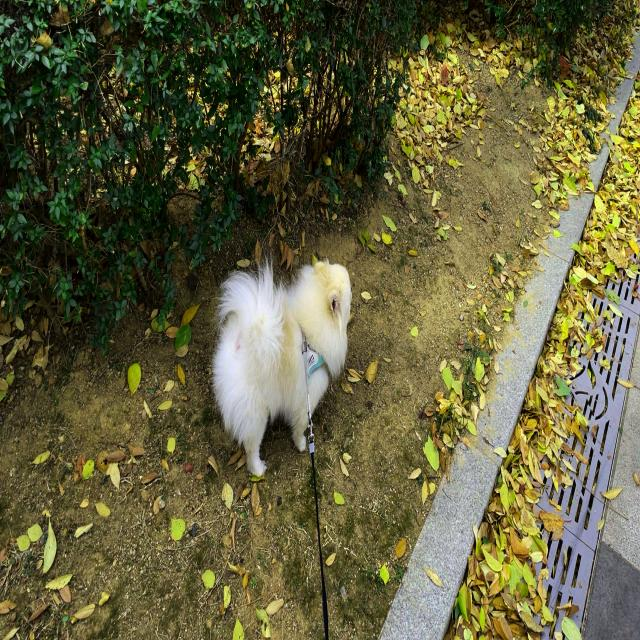Dog: (212, 258, 352, 477)
